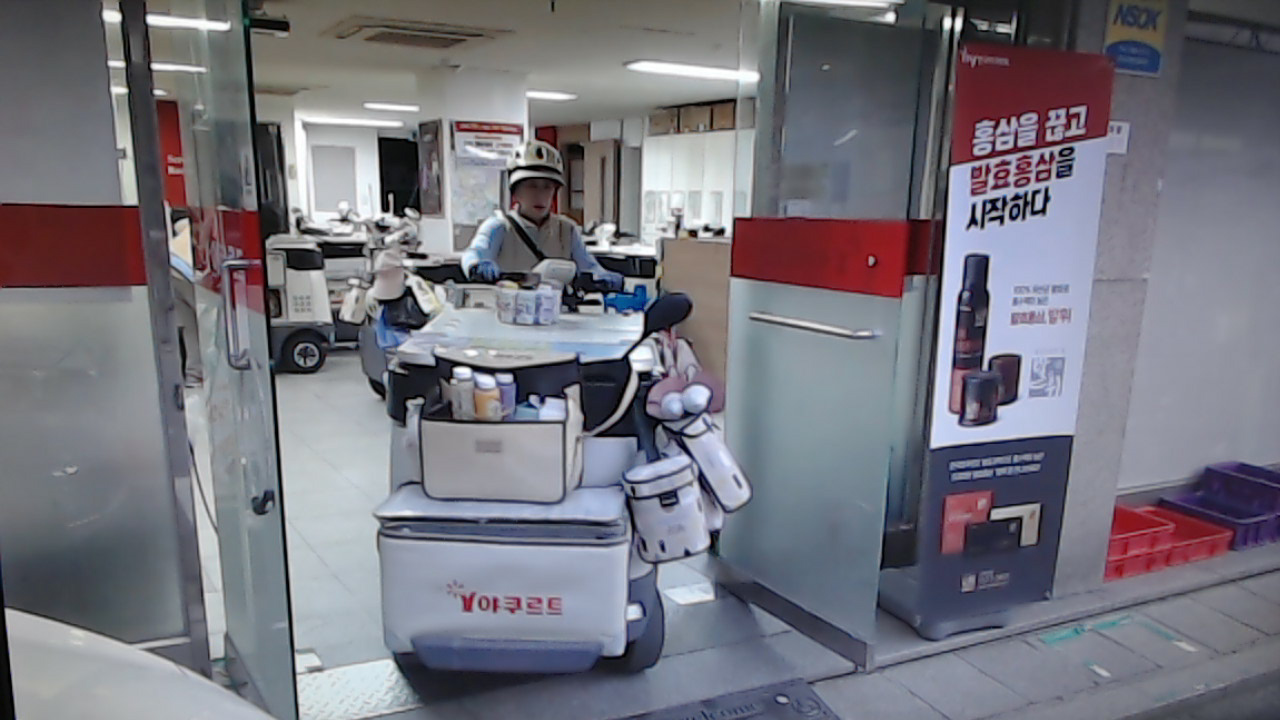Yakurut: (466, 145, 630, 299)
